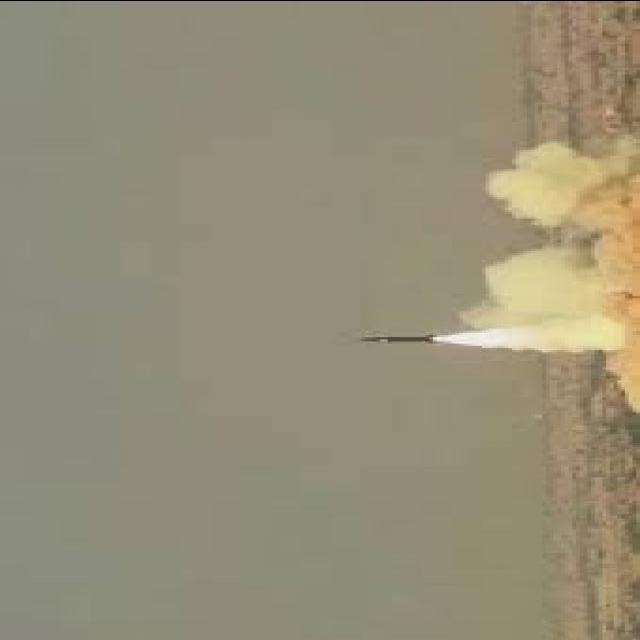missile: (356, 330, 438, 350)
